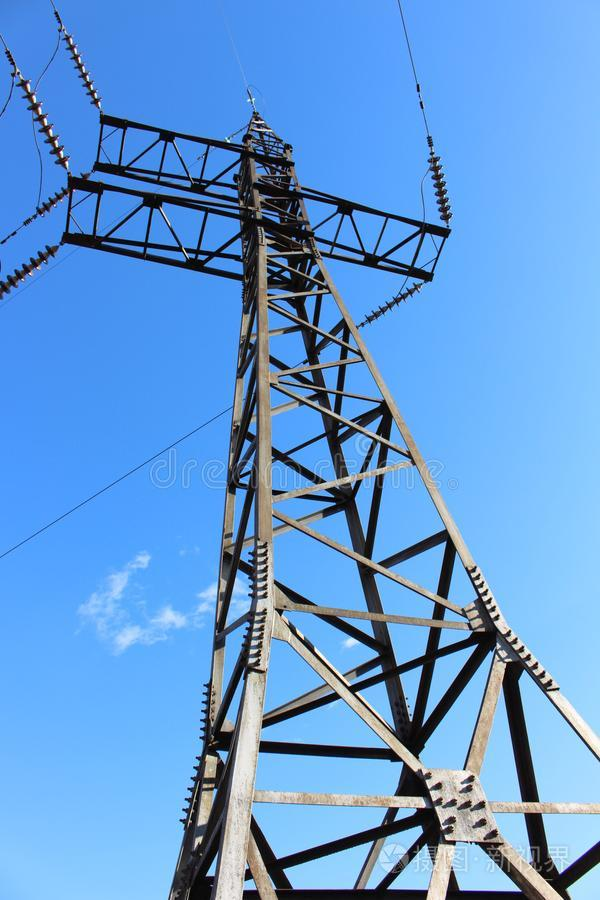insulator: (15, 77, 71, 164), (55, 31, 100, 104), (1, 244, 57, 297), (358, 281, 421, 322), (425, 155, 451, 223), (35, 186, 67, 215)
